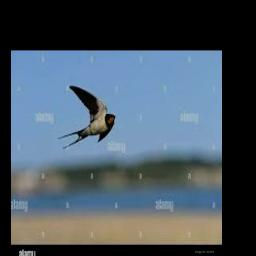Swallow: (59, 85, 115, 148)
